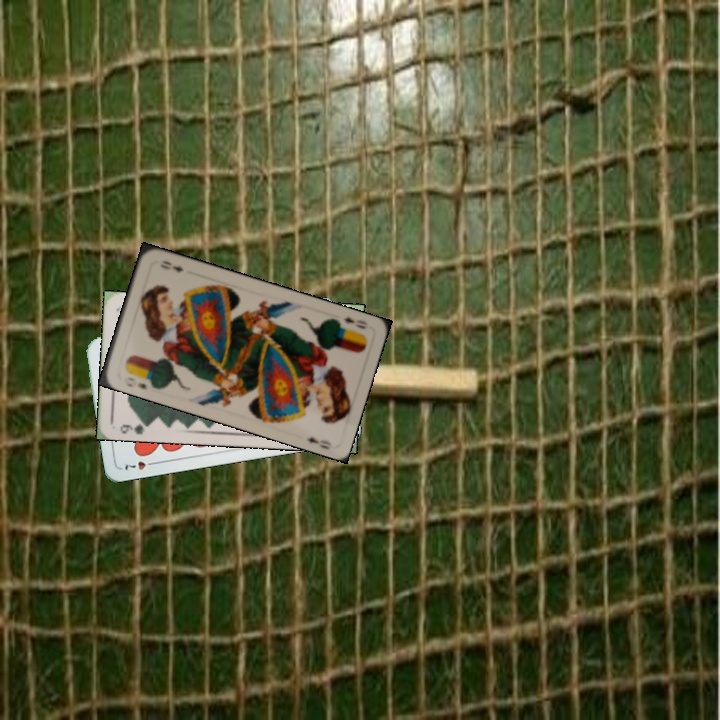EO: (339, 313, 370, 331), (120, 373, 149, 392)
G9: (116, 417, 153, 437)
H7: (121, 457, 159, 473)
